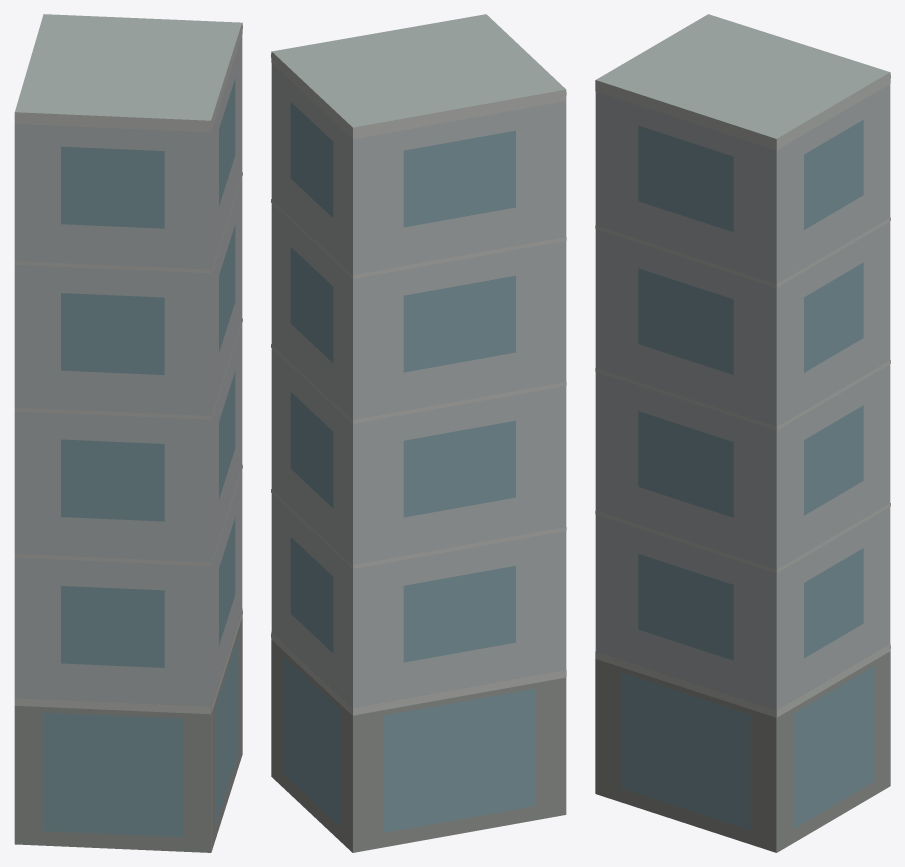
The model's file is survey-upis-32696250.glb.
The picture shows the model from 3 angles, left to right: view 1: azimuth 30°, elevation 25°; view 2: azimuth 150°, elevation 25°; view 3: azimuth 270°, elevation 25°; orthographic projection. The views are drawn at different scales.
Visible parts, largest first — view 1: survey-upis-32696250.tmp; view 2: survey-upis-32696250.tmp; view 3: survey-upis-32696250.tmp.
Boxes of the visible parts, x1,y1,x2,y2 form: survey-upis-32696250.tmp: (14,14,242,852); survey-upis-32696250.tmp: (271,14,566,852); survey-upis-32696250.tmp: (595,14,890,852).
Bounding box in the file's own units: 5.74 × 15.25 × 5.73.
